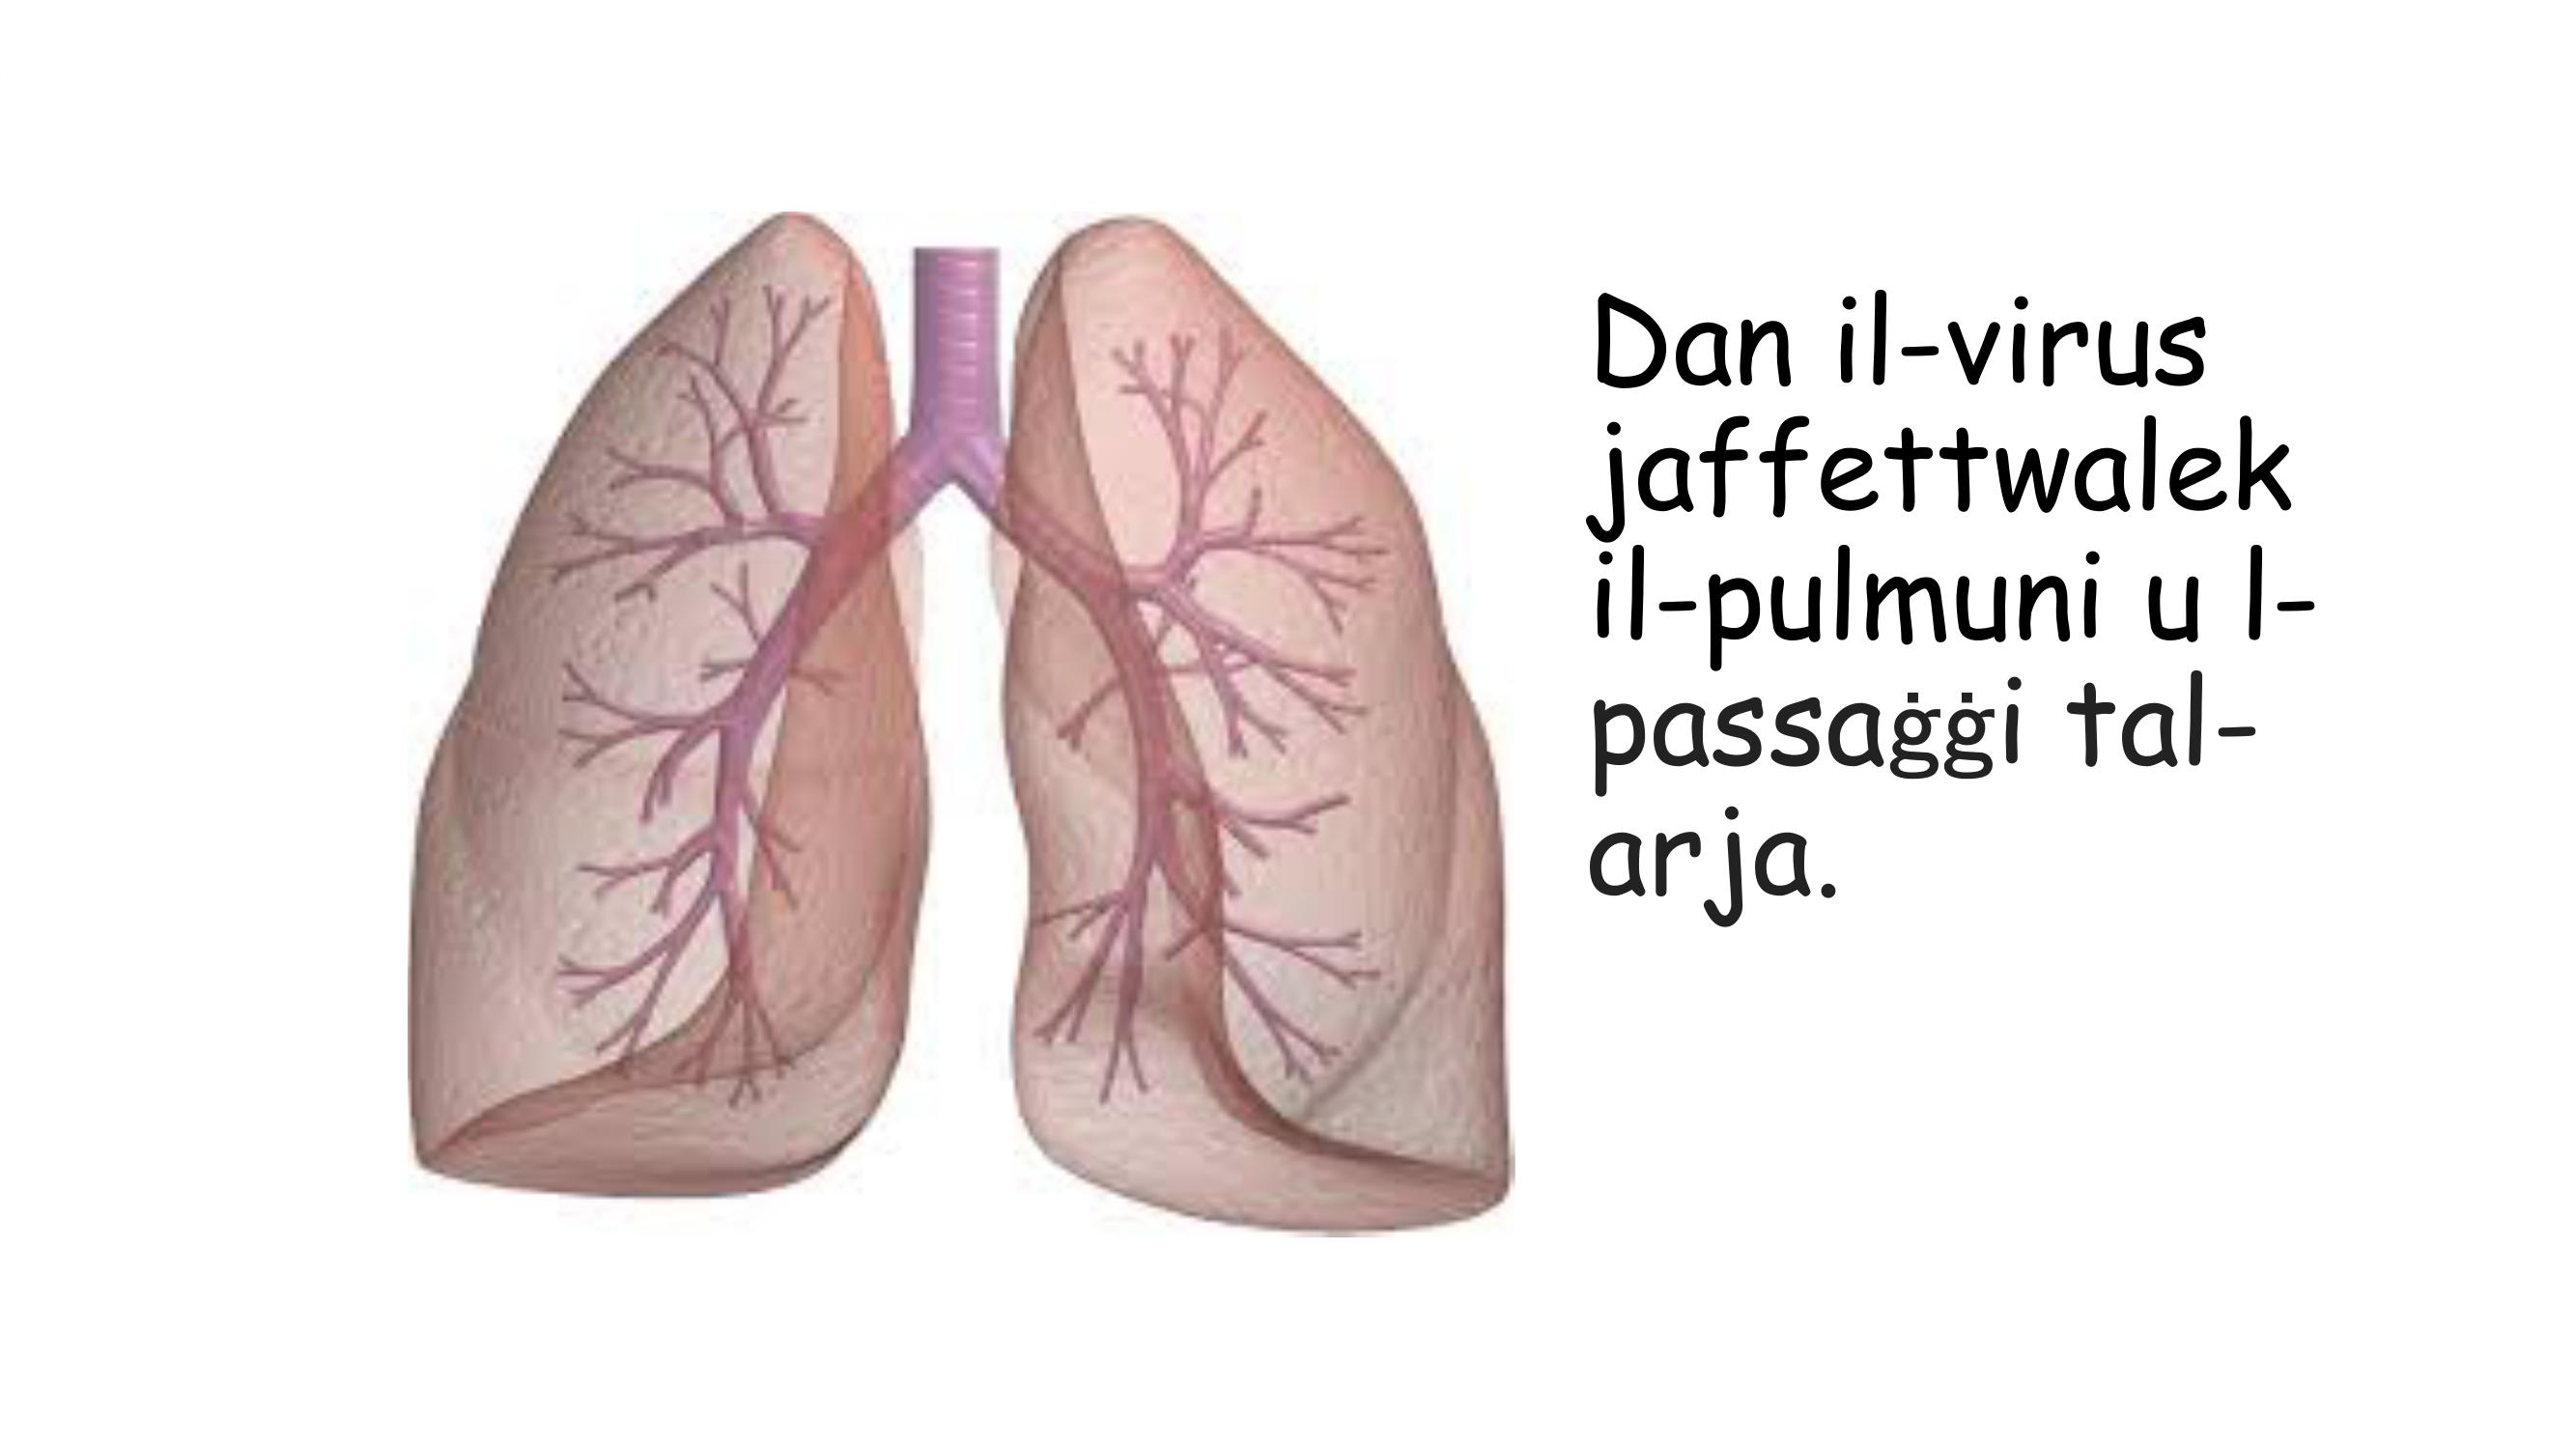text: (1555, 253, 2342, 950)
